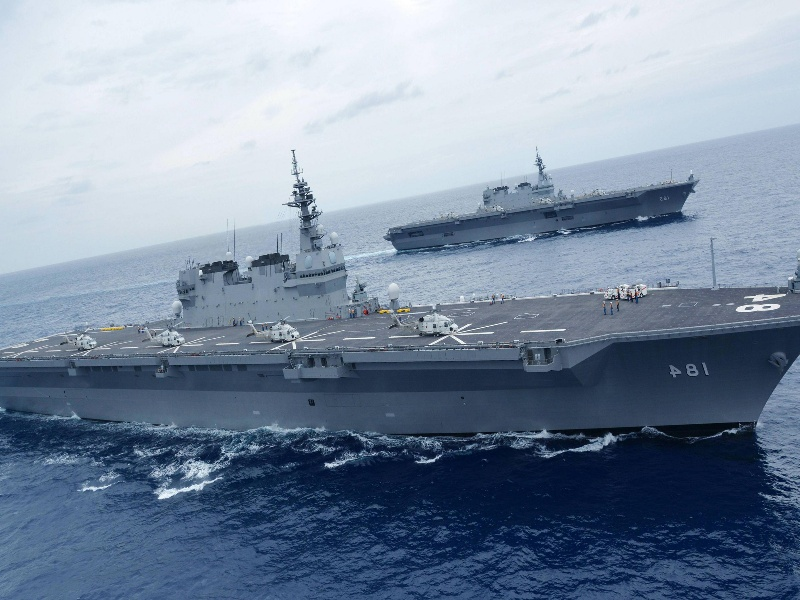carrier: (22, 249, 793, 437), (380, 165, 709, 249)
